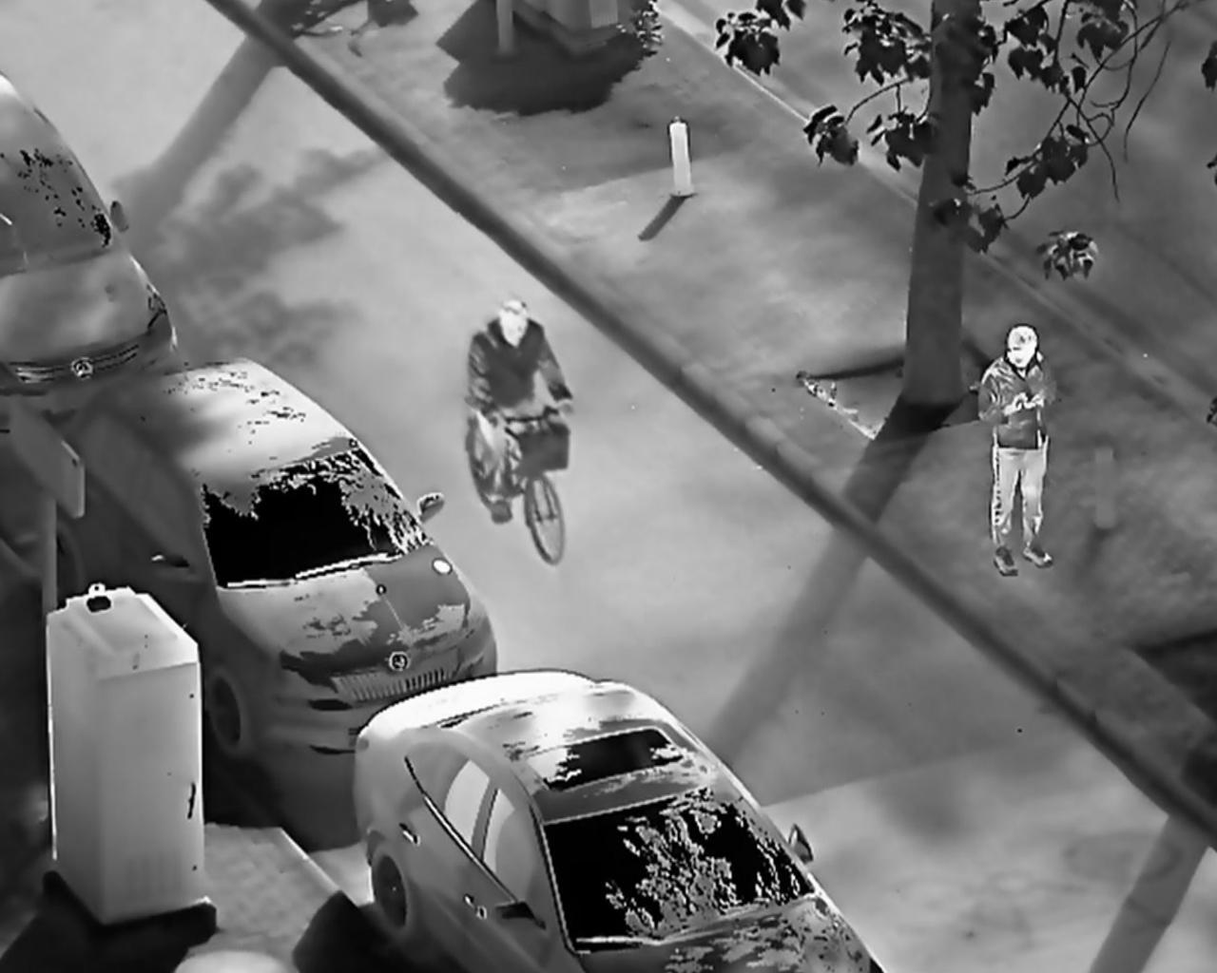person: (467, 296, 575, 526), (976, 320, 1061, 583)
